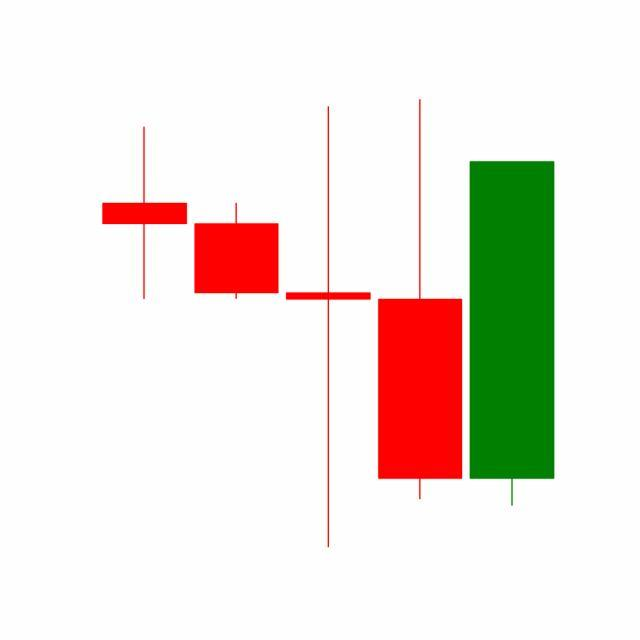Marubozu: (466, 158, 559, 510)
